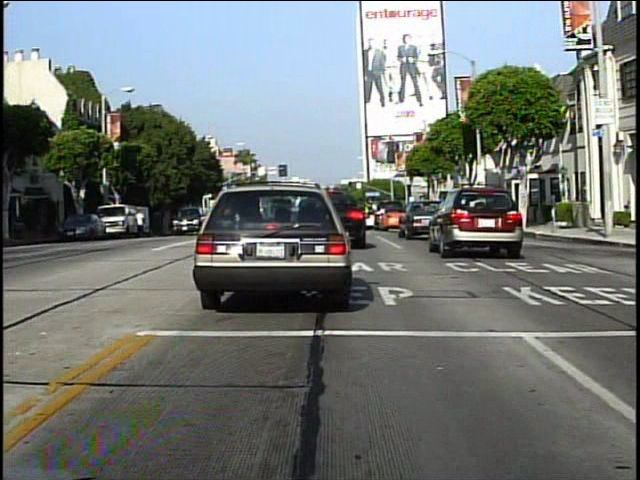person: (134, 205, 147, 240)
